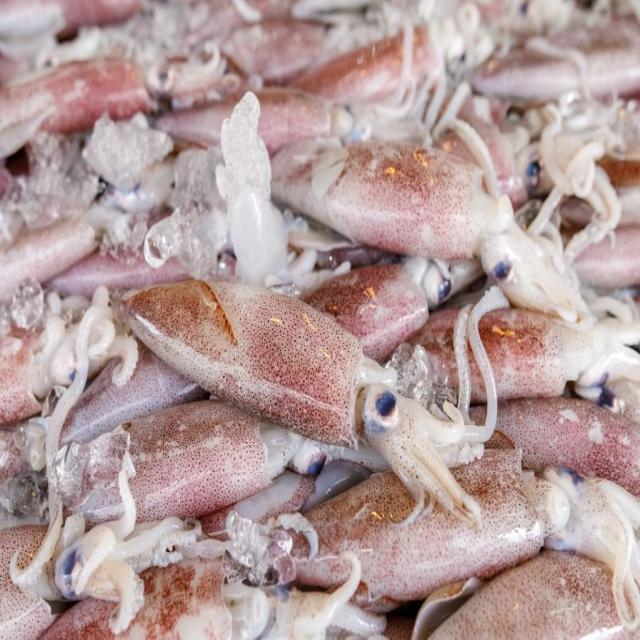SQUID: (91, 255, 501, 515)
